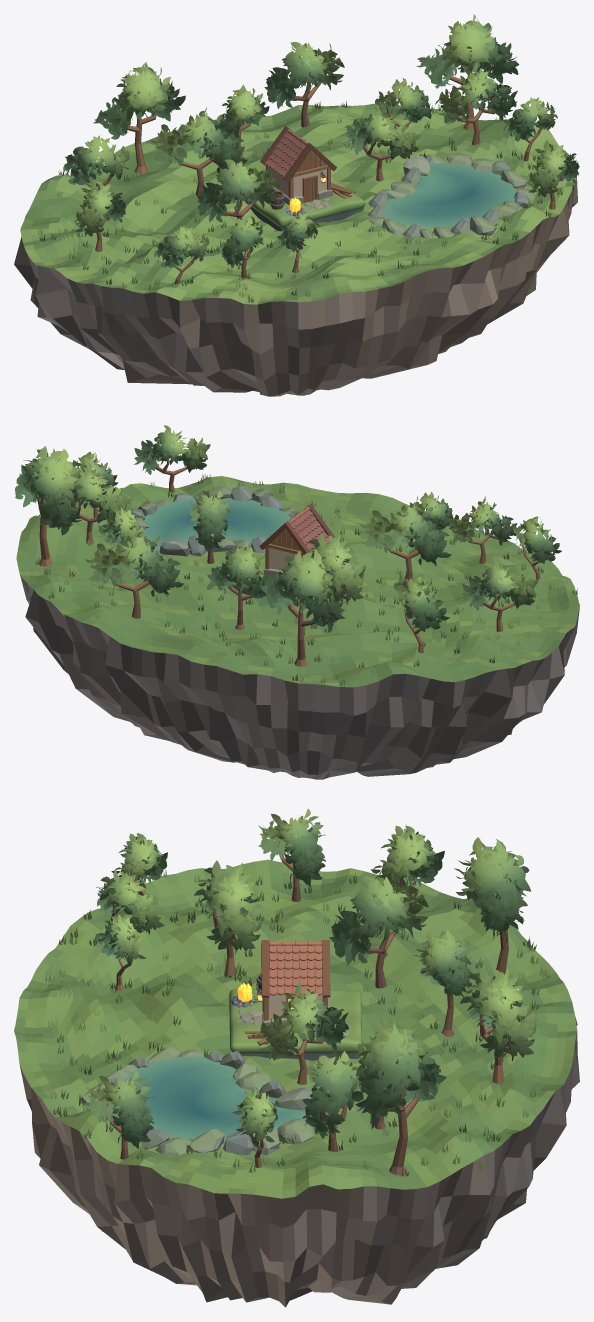
The model's file is pond-island.glb.
3 views of the same model, one above another, from view 1: azimuth 30°, elevation 25°; view 2: azimuth 150°, elevation 25°; view 3: azimuth 270°, elevation 25° (orthographic). The views are drawn at different scales.
Visible parts, largest first — view 1: GEO_Terrain, FX_Pond, leaf_vol_2.002, leaf_vol_2.001, leaf_vol_3.001, leaf_vol_3.003, leaf_vol_3, leaf_vol_3.007, leaf_vol_3.004, leaf_vol_1.001, leaf_vol_3.006, leaf_vol_3.002 (+10 smaller); view 2: GEO_Terrain, FX_Pond, leaf_vol_2.001, leaf_vol_2.002, leaf_vol_3.003, leaf_vol_3, leaf_vol_3.006, leaf_vol_3.002, leaf_vol_3.001, leaf_vol_2, leaf_vol_1.001, leaf_vol_3.007 (+9 smaller); view 3: GEO_Terrain, FX_Pond, leaf_vol_2.002, leaf_vol_3.001, leaf_vol_2.001, leaf_vol_3.003, leaf_vol_3, leaf_vol_3.004, HUT_Plane.002, leaf_vol_3.007, leaf_vol_3.006, leaf_vol_3.002 (+10 smaller).
Boxes of the visible parts, x1,y1,x2,y2 form: GEO_Terrain: (14,103,577,396); FX_Pond: (381,163,515,227); leaf_vol_2.002: (416,14,519,88); leaf_vol_2.001: (93,62,185,139); leaf_vol_3.001: (150,107,247,174); leaf_vol_3.003: (264,42,344,108); leaf_vol_3: (197,159,279,222); leaf_vol_3.007: (435,62,517,123); leaf_vol_3.004: (344,106,421,159); leaf_vol_1.001: (63,135,129,185); leaf_vol_3.006: (74,179,126,236); leaf_vol_3.002: (528,139,579,197); GEO_Terrain: (16,476,579,779); FX_Pond: (143,497,290,550); leaf_vol_2.001: (258,549,348,630); leaf_vol_2.002: (15,446,81,535); leaf_vol_3.003: (85,525,183,596); leaf_vol_3: (360,496,451,566); leaf_vol_3.006: (462,561,538,610); leaf_vol_3.002: (133,425,210,474); leaf_vol_3.001: (308,533,363,604); leaf_vol_2: (206,544,268,599); leaf_vol_1.001: (390,574,449,631); leaf_vol_3.007: (59,463,133,523); GEO_Terrain: (14,859,579,1307); FX_Pond: (120,1056,305,1139); leaf_vol_2.002: (351,1016,446,1128); leaf_vol_3.001: (329,876,428,965); leaf_vol_2.001: (454,837,531,943); leaf_vol_3.003: (460,965,536,1061); leaf_vol_3: (194,860,262,954); leaf_vol_3.004: (256,982,348,1060); HUT_Plane.002: (229,988,362,1053); leaf_vol_3.007: (302,1049,361,1138); leaf_vol_3.006: (258,808,325,886); leaf_vol_3.002: (86,1070,154,1148).
Bounding box in the file's own units: 19.8 × 9.61 × 14.06.
